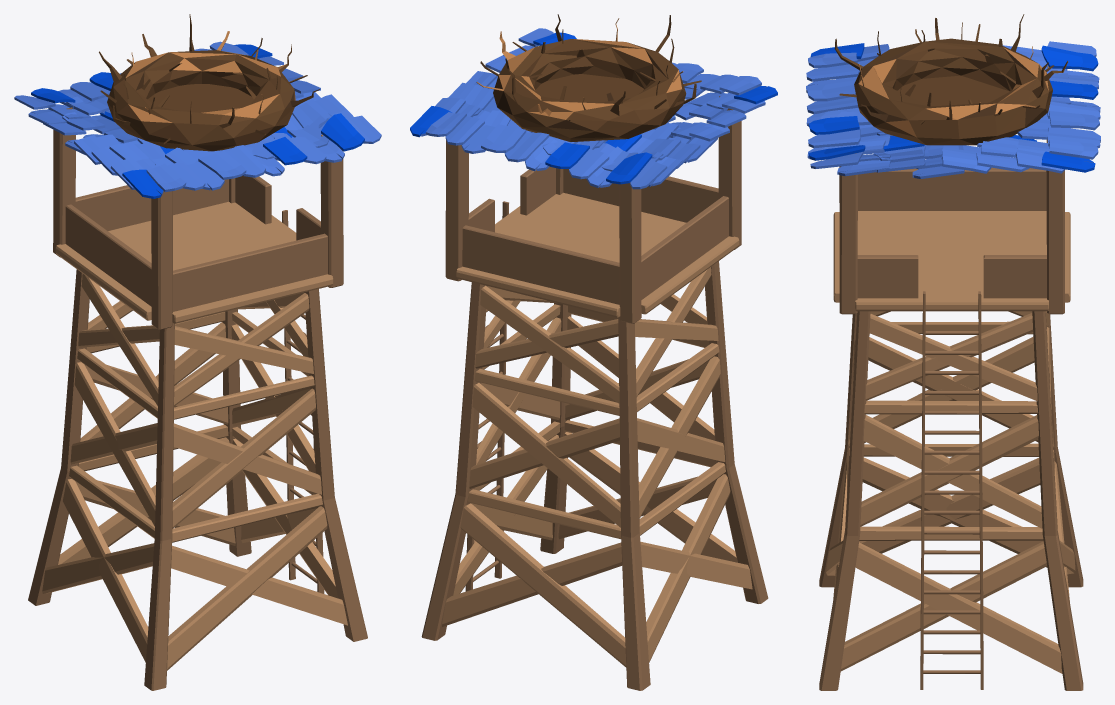
File: watchtower.fbx
3 views of the same model, side by side, from view 1: azimuth 30°, elevation 25°; view 2: azimuth 150°, elevation 25°; view 3: azimuth 270°, elevation 25° (orthographic). The views are drawn at different scales.
Parts seen in each view (by area): view 1: Legs, Torus.001, Walls, Plane.002, Floor, Wall planks, Plane.003, Ladder; view 2: Legs, Torus.001, Walls, Plane.003, Floor, Wall planks, Plane.002, Ladder; view 3: Legs, Torus.001, Floor, Walls, Plane.003, Plane.002, Ladder, Wall planks.
Boxes of the visible parts, bbox=[...] form: Legs: bbox=[28, 269, 367, 690]; Torus.001: bbox=[99, 14, 319, 151]; Walls: bbox=[65, 175, 327, 311]; Plane.002: bbox=[74, 92, 381, 198]; Floor: bbox=[55, 201, 333, 323]; Wall planks: bbox=[53, 107, 343, 329]; Plane.003: bbox=[14, 41, 320, 155]; Ladder: bbox=[282, 210, 324, 593]; Legs: bbox=[421, 261, 768, 690]; Torus.001: bbox=[476, 14, 701, 141]; Walls: bbox=[462, 166, 728, 304]; Plane.003: bbox=[410, 71, 717, 189]; Floor: bbox=[456, 192, 739, 317]; Wall planks: bbox=[445, 96, 741, 323]; Plane.002: bbox=[485, 28, 777, 141]; Ladder: bbox=[465, 201, 508, 591]; Legs: bbox=[819, 311, 1083, 690]; Torus.001: bbox=[834, 14, 1068, 145]; Floor: bbox=[833, 211, 1070, 311]; Walls: bbox=[857, 167, 1046, 298]; Plane.003: bbox=[941, 41, 1100, 173]; Plane.002: bbox=[806, 43, 964, 178]; Ladder: bbox=[920, 291, 983, 689]; Wall planks: bbox=[839, 66, 1064, 314].
Size of the model in its own units: 1337 by 3006 by 1355.
